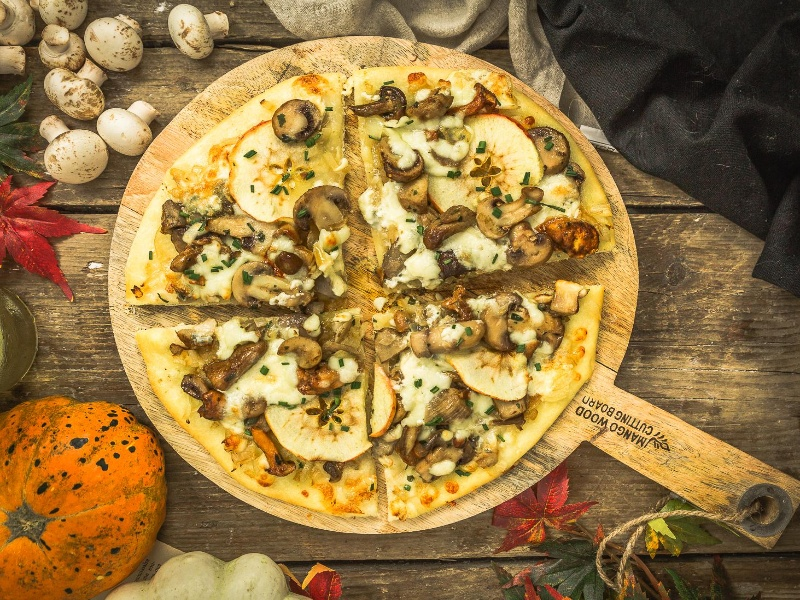champignon: (288, 179, 354, 235), (471, 194, 545, 241)
